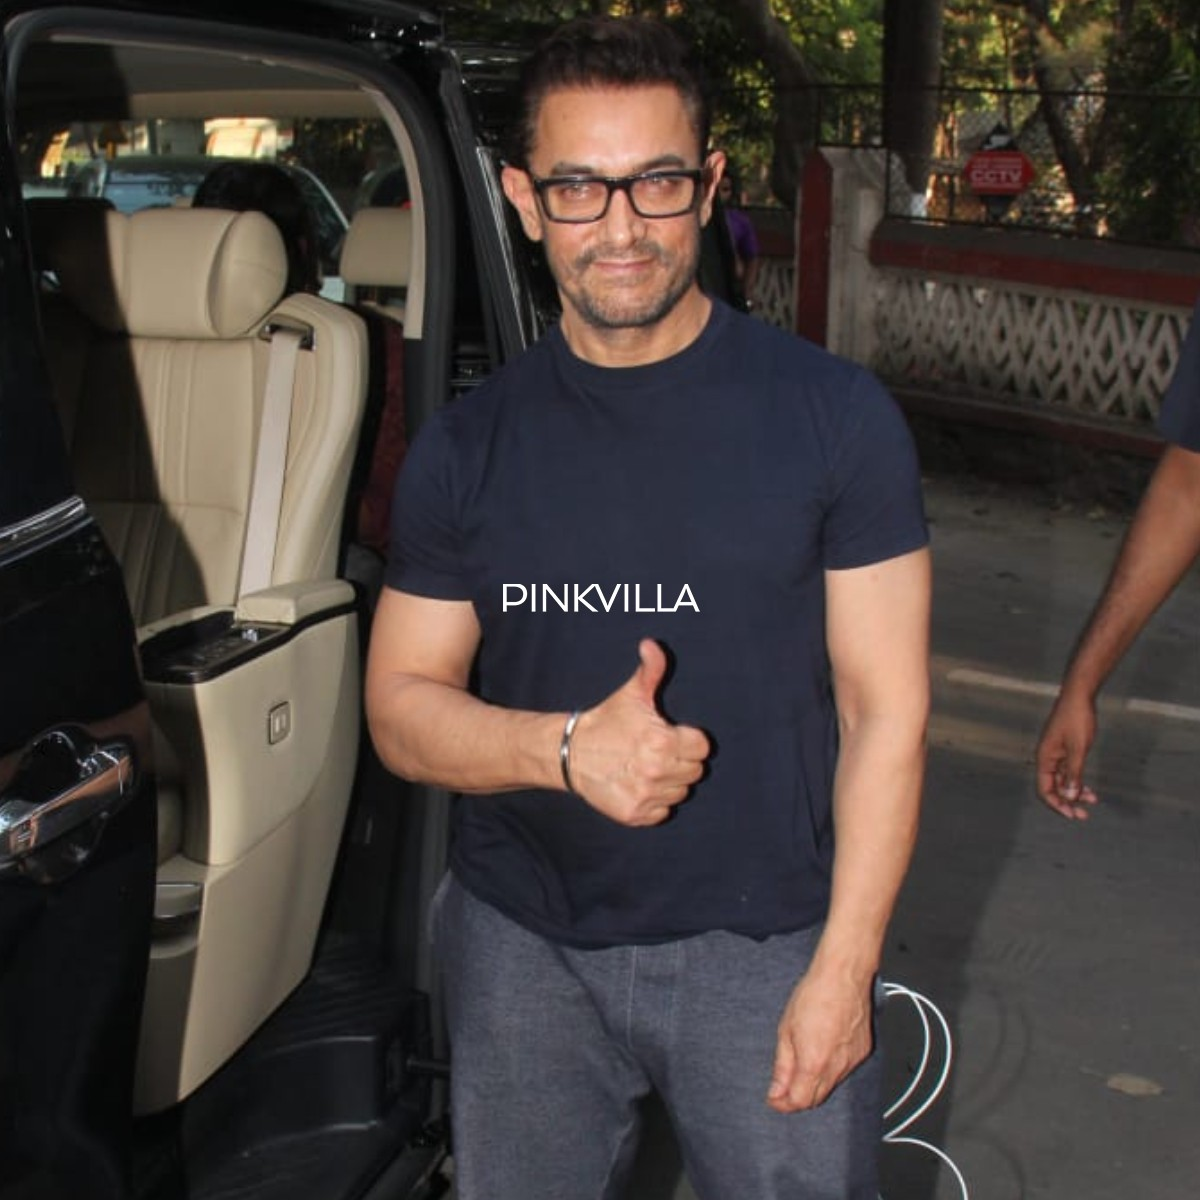thumbsUp: (559, 633, 723, 843)
